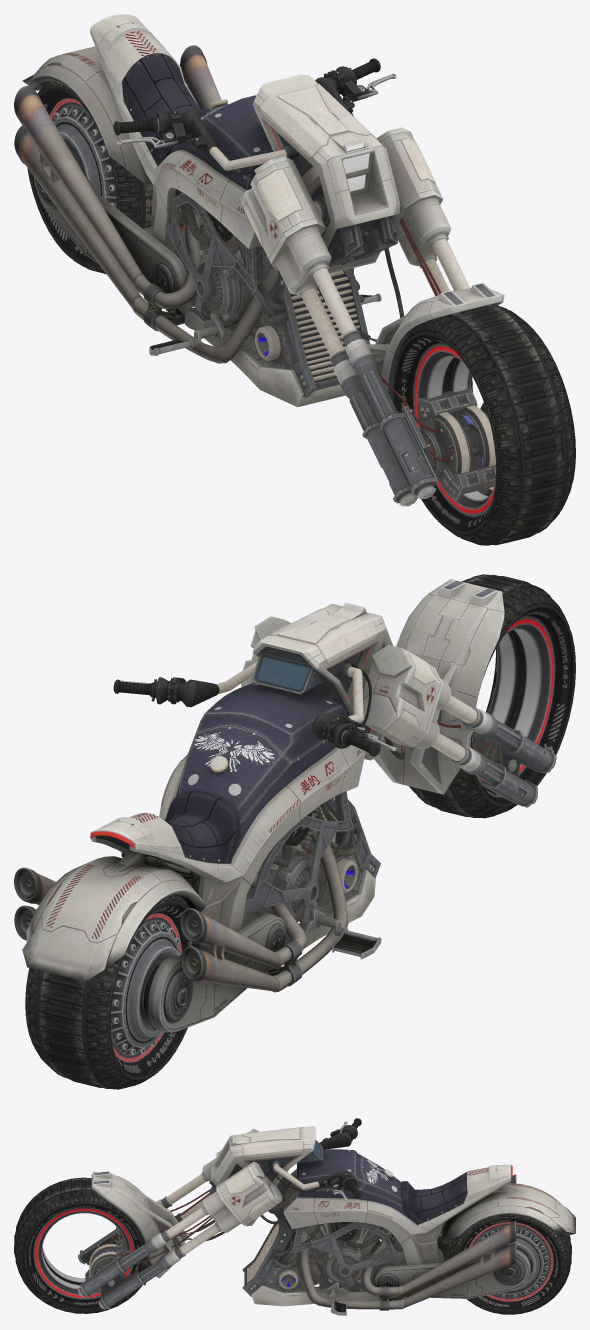
The model's file is moto-1-high.glb.
3 renders of one model, top to bottom at view 1: azimuth 30°, elevation 25°; view 2: azimuth 150°, elevation 25°; view 3: azimuth 270°, elevation 25°, orthographic. The views are drawn at different scales.
Parts seen in each view (by area): view 1: wheel2_polySurface355, polySurface403, polySurface376, LP_Front_frame_smooth_polySurface275, polySurface248, polySurface215, pCube40, polySurface17, pCube83, polySurface137, pCylinder7, polySurface362 (+18 smaller); view 2: polySurface376, wheel2_polySurface355, polySurface215, pCube83, polySurface362, LP_Front_frame_smooth_polySurface275, polySurface403, polySurface248, polySurface358, pCylinder16, polySurface17, pCube40 (+14 smaller); view 3: polySurface376, wheel2_polySurface355, polySurface403, LP_Front_frame_smooth_polySurface275, polySurface215, polySurface248, pCube83, polySurface362, pCylinder16, polySurface358, pCube40, polySurface17 (+21 smaller).
Part boxes in pixels (<box>): wheel2_polySurface355: <box>392,304,575,545</box>; polySurface403: <box>241,132,485,506</box>; polySurface376: <box>90,14,345,407</box>; LP_Front_frame_smooth_polySurface275: <box>251,74,400,273</box>; polySurface248: <box>14,45,221,307</box>; polySurface215: <box>22,46,151,183</box>; pCube40: <box>165,193,354,331</box>; polySurface17: <box>122,53,211,166</box>; pCube83: <box>27,81,152,274</box>; polySurface137: <box>301,238,469,356</box>; pCylinder7: <box>420,405,495,477</box>; polySurface362: <box>375,282,504,400</box>; polySurface376: <box>90,683,375,948</box>; wheel2_polySurface355: <box>409,574,575,818</box>; polySurface215: <box>22,850,206,981</box>; pCube83: <box>25,895,200,1089</box>; polySurface362: <box>374,579,504,794</box>; LP_Front_frame_smooth_polySurface275: <box>251,602,393,760</box>; polySurface403: <box>243,621,556,807</box>; polySurface248: <box>14,867,280,991</box>; polySurface358: <box>110,913,182,1062</box>; pCylinder16: <box>148,913,286,1032</box>; polySurface17: <box>162,790,240,863</box>; pCube40: <box>244,791,353,943</box>; polySurface376: <box>251,1149,512,1306</box>; wheel2_polySurface355: <box>14,1177,151,1313</box>; polySurface403: <box>78,1130,279,1309</box>; LP_Front_frame_smooth_polySurface275: <box>211,1126,322,1226</box>; polySurface215: <box>442,1183,575,1243</box>; polySurface248: <box>402,1174,516,1307</box>; pCube83: <box>447,1215,571,1314</box>; polySurface362: <box>91,1171,187,1277</box>; pCylinder16: <box>373,1232,530,1298</box>; polySurface358: <box>469,1222,553,1301</box>; pCube40: <box>275,1222,405,1292</box>; polySurface17: <box>401,1172,467,1224</box>.
Size of the model in its own units: 0.7245 by 0.7618 by 2.2.
Materials: 6 (6 with a texture image).
